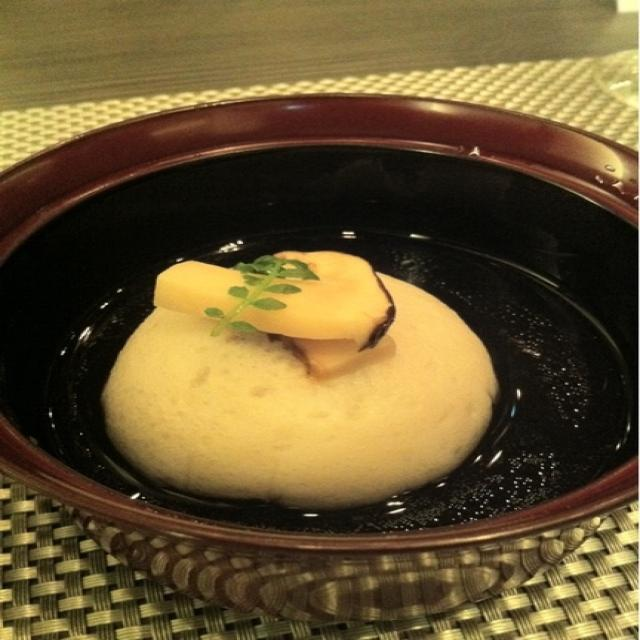汤锅炖物: (3, 82, 636, 572)
